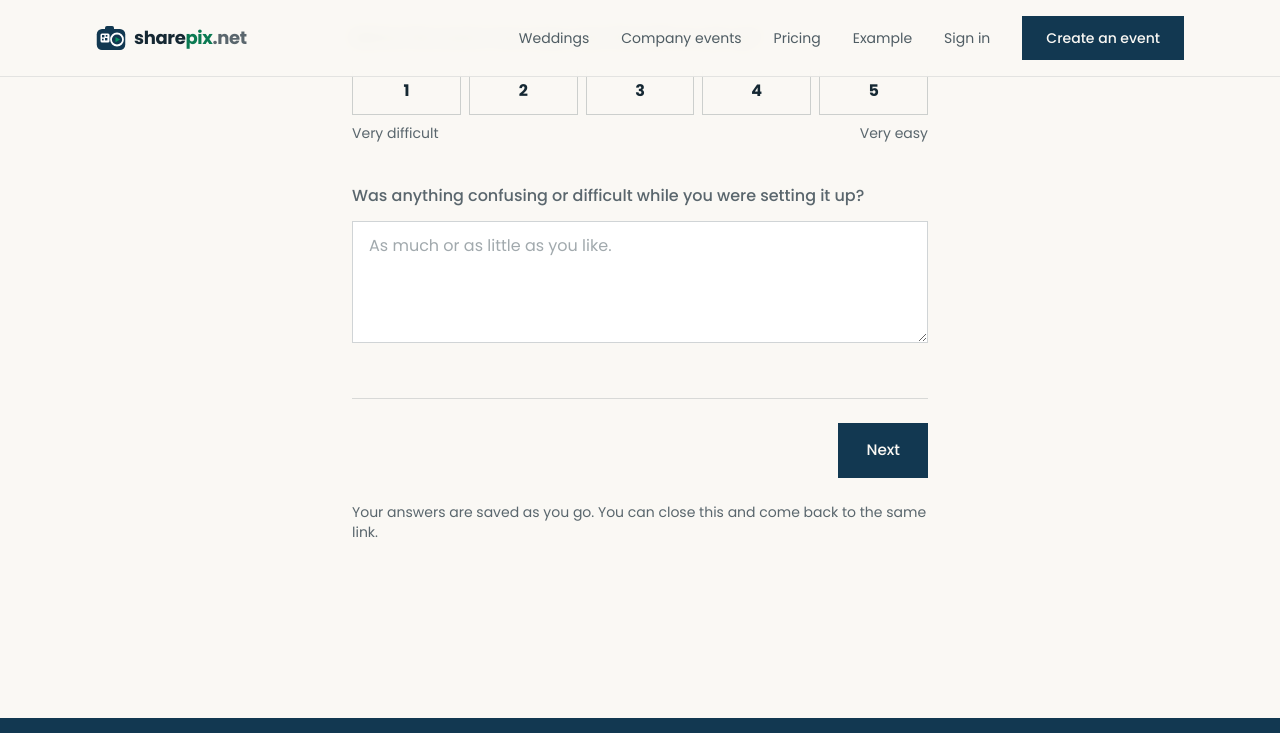
Test: submitting › describes the photo question as a conversation, not a grant
This screenshot has width=1280, height=733.
(page scrolled)
Click the button "Next".
click(883, 450)  # box top-left (838, 423), bottom-right (928, 478)
(page scrolled)
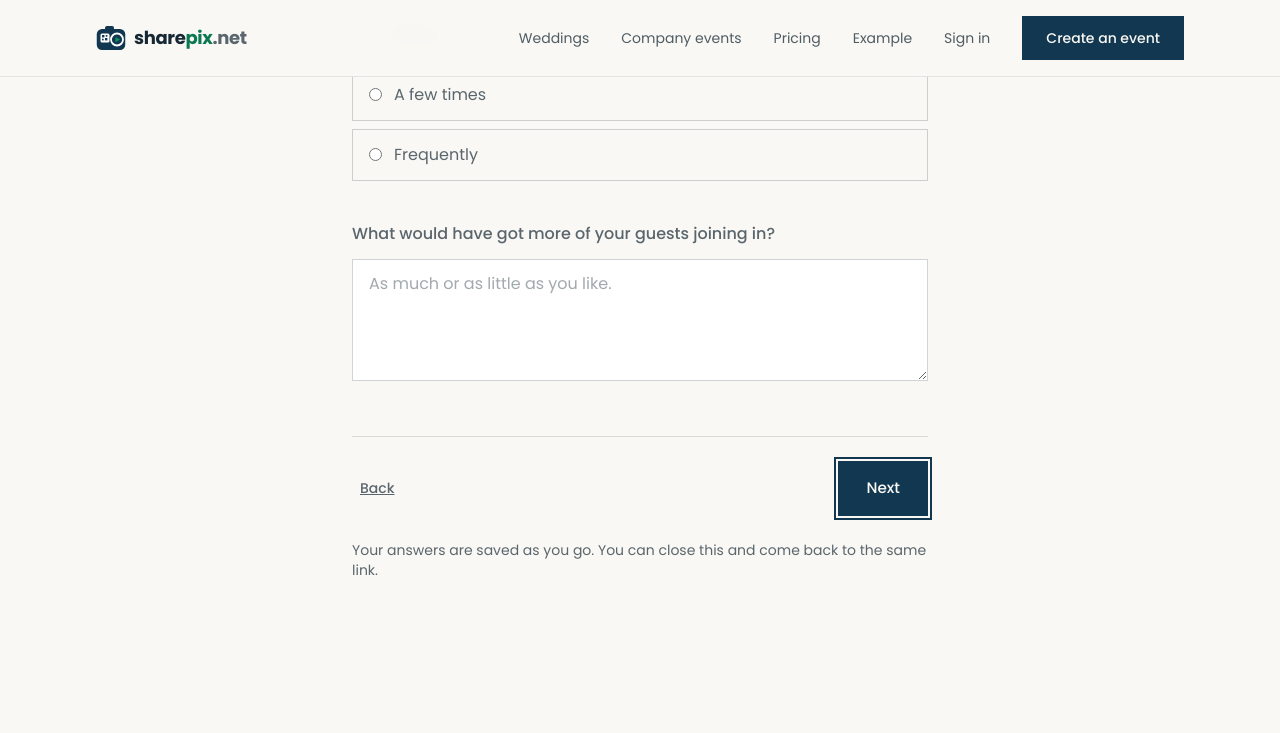
Click the button "Next".
click(883, 488)  # box top-left (838, 461), bottom-right (928, 516)
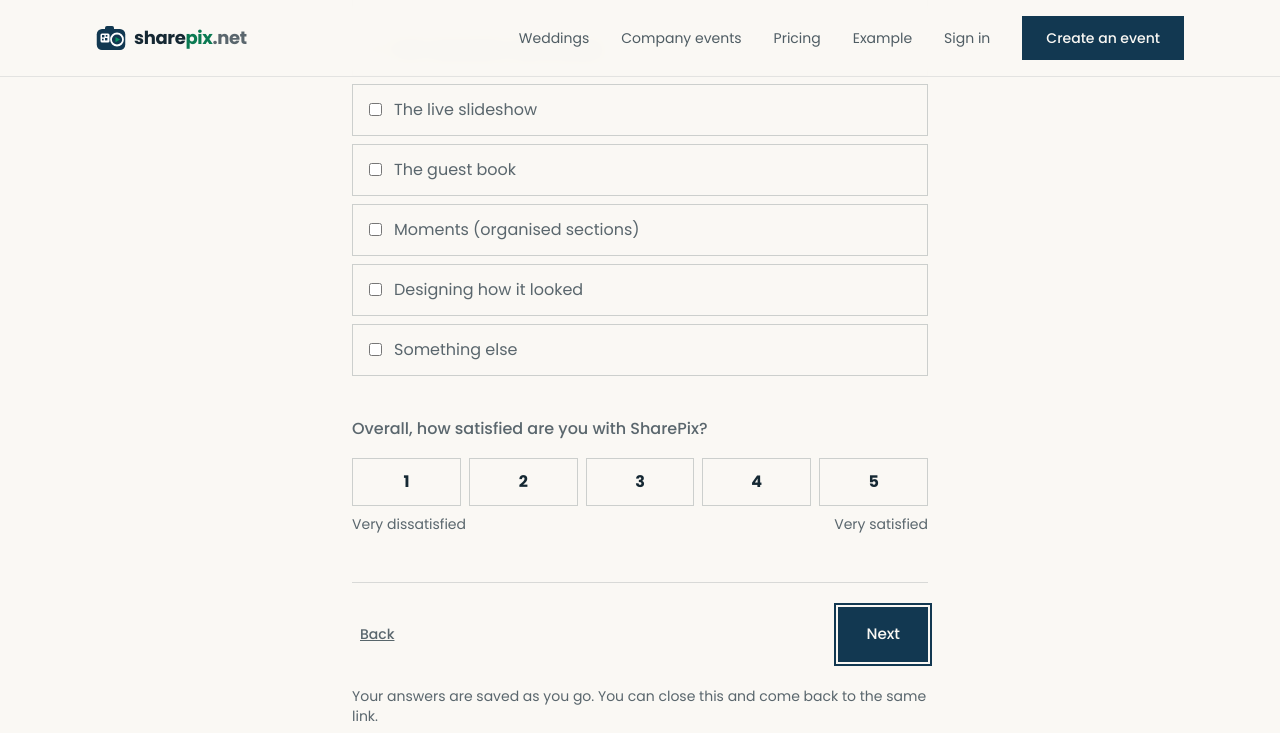
Click the button "Next".
click(883, 634)  # box top-left (838, 607), bottom-right (928, 662)
(page scrolled)
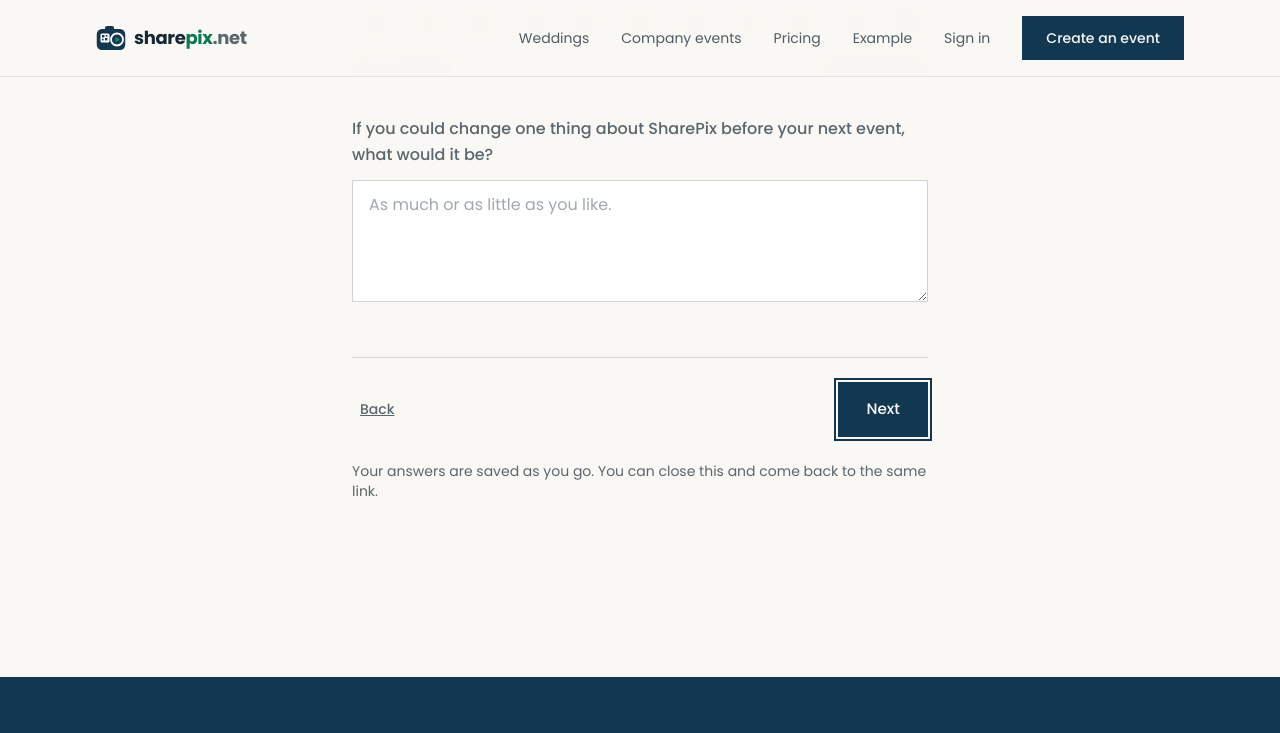
Click the button "Next".
click(883, 409)  # box top-left (838, 382), bottom-right (928, 437)
(page scrolled)
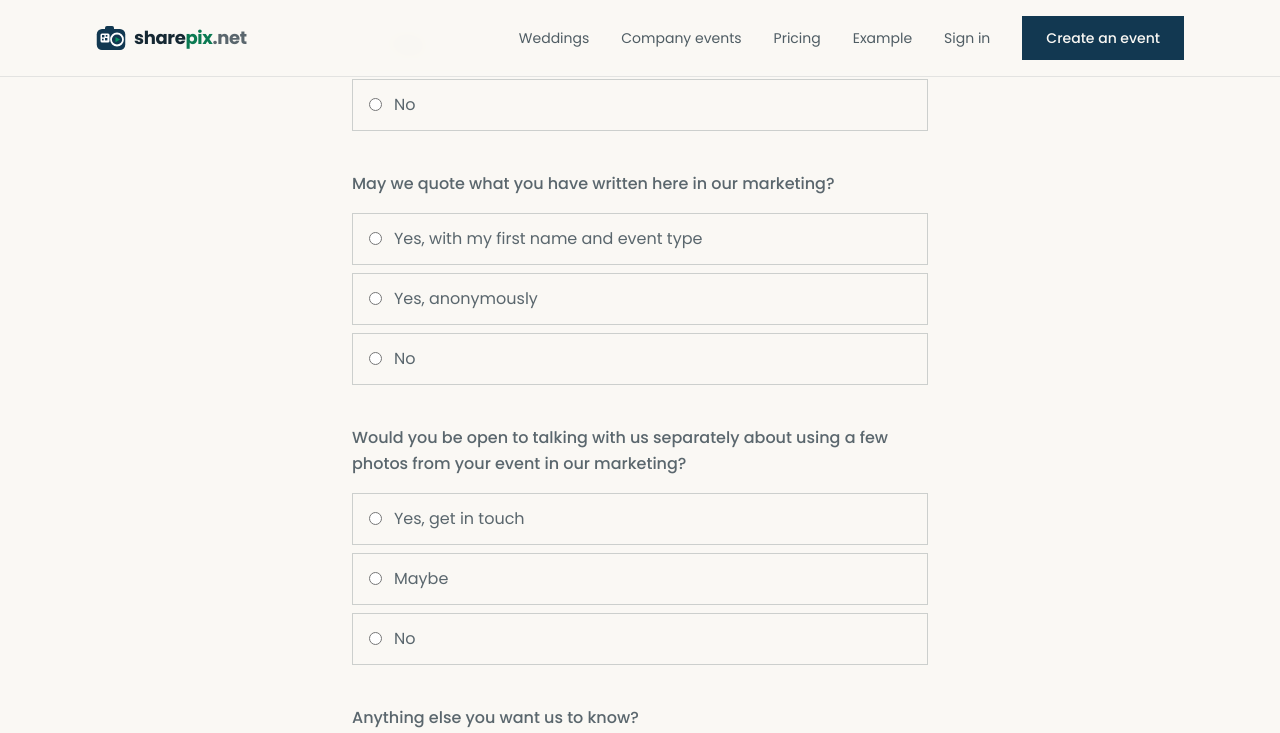
Expected: the text "talking with us separately" is shown, top-left (352, 426), bottom-right (888, 475)
